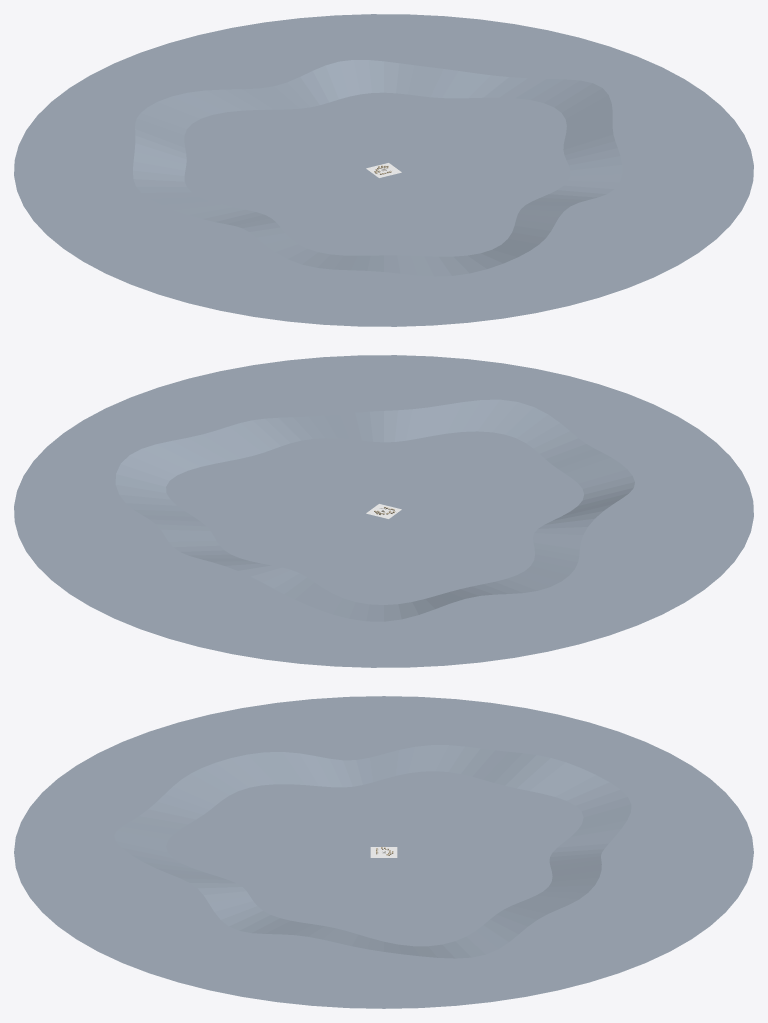
The model's file is synagogue.glb.
3 renders of one model, top to bottom at view 1: azimuth 30°, elevation 25°; view 2: azimuth 150°, elevation 25°; view 3: azimuth 270°, elevation 25°, orthographic.
Parts seen in each view (by area): view 1: Distant ground and hills; view 2: Distant ground and hills; view 3: Distant ground and hills.
Boxes of the visible parts, x1=… form: Distant ground and hills: x1=14, y1=14, x2=753, y2=326; Distant ground and hills: x1=14, y1=355, x2=753, y2=667; Distant ground and hills: x1=14, y1=696, x2=753, y2=1008.
Bounding box in the file's own units: 5000 × 105 × 5000.
107 materials, 14 textured.
